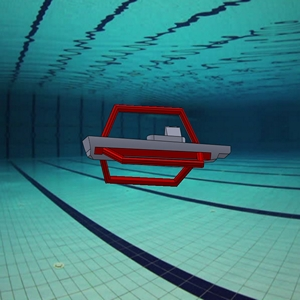submarine: (82, 92, 245, 200)
